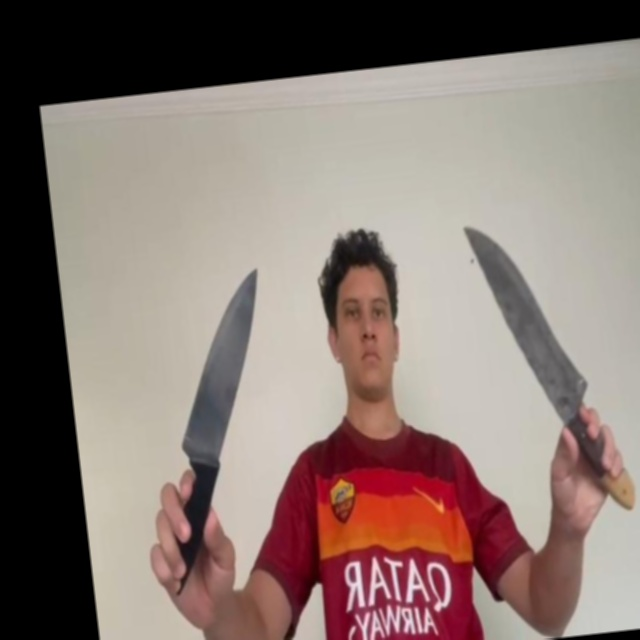Sharp-Object: (463, 214, 590, 401), (161, 266, 278, 459)
